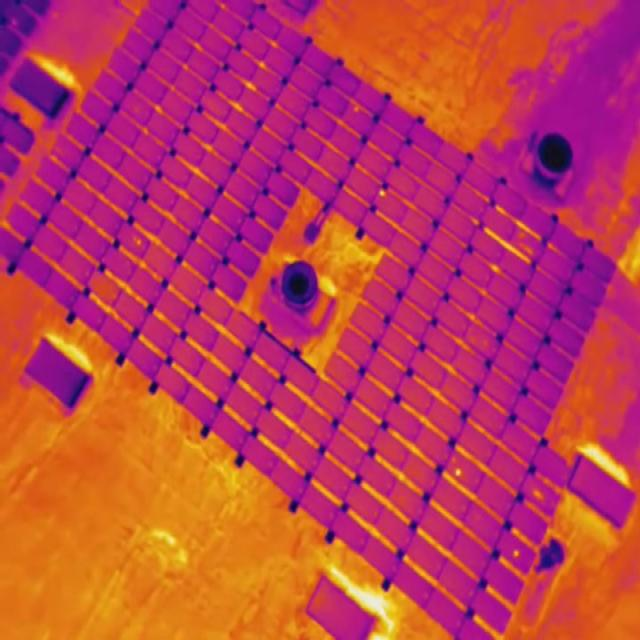Orange-Spots: (534, 489, 543, 500), (524, 246, 534, 255), (455, 468, 462, 476), (514, 549, 520, 558), (379, 190, 386, 197), (519, 231, 525, 238), (136, 240, 142, 246), (519, 242, 525, 248), (354, 106, 359, 112), (133, 237, 137, 242), (452, 458, 456, 463)
